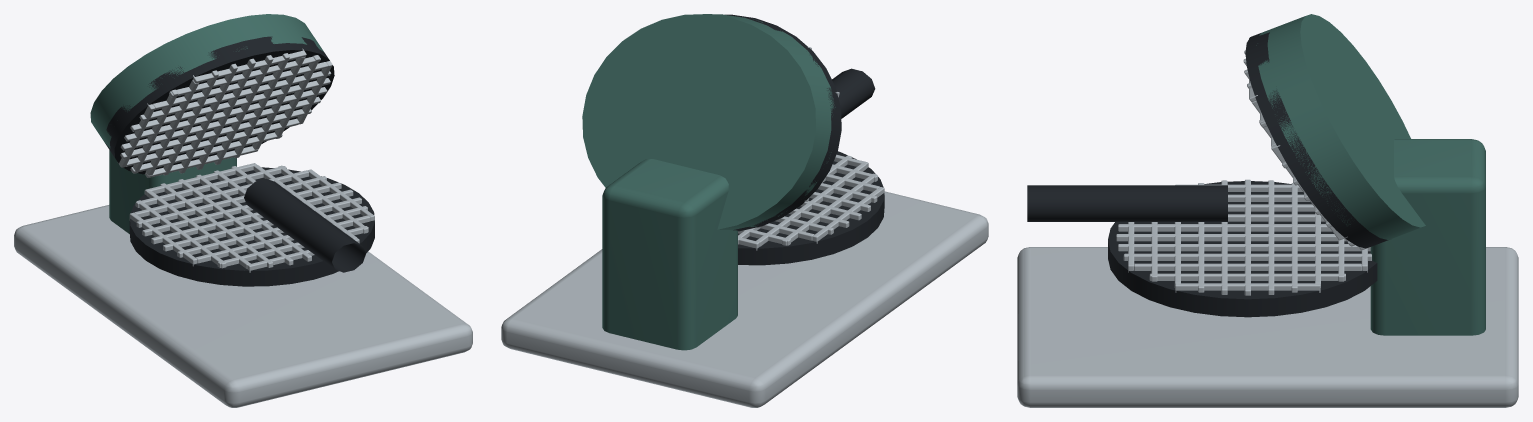
Rendered from rotary-waffle-maker.glb.
3 renders of one model, left to right at view 1: azimuth 30°, elevation 25°; view 2: azimuth 150°, elevation 25°; view 3: azimuth 270°, elevation 25°, orthographic. The views are drawn at different scales.
Visible parts, largest first — view 1: rotary-waffle-maker; view 2: rotary-waffle-maker; view 3: rotary-waffle-maker.
Boxes of the visible parts, bbox=[...] form: rotary-waffle-maker: bbox=[14, 14, 472, 407]; rotary-waffle-maker: bbox=[501, 14, 988, 407]; rotary-waffle-maker: bbox=[1017, 14, 1518, 407].
Bounding box in the file's own units: 0.26 × 0.28 × 0.4.
